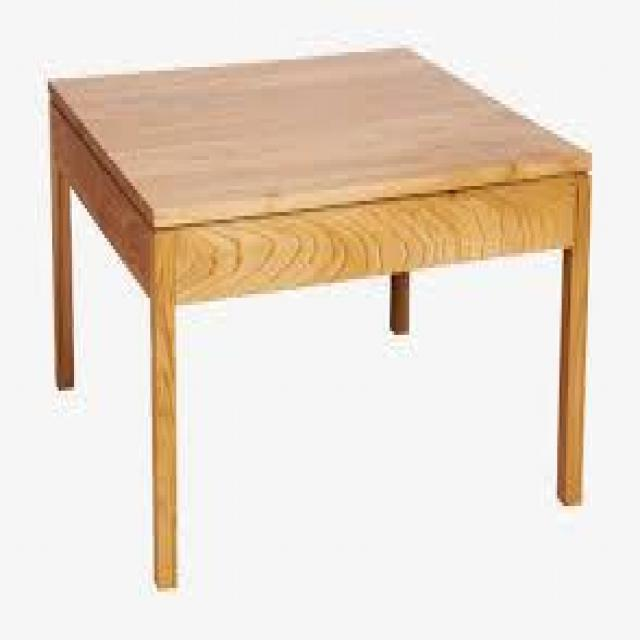table: (31, 22, 610, 614)
